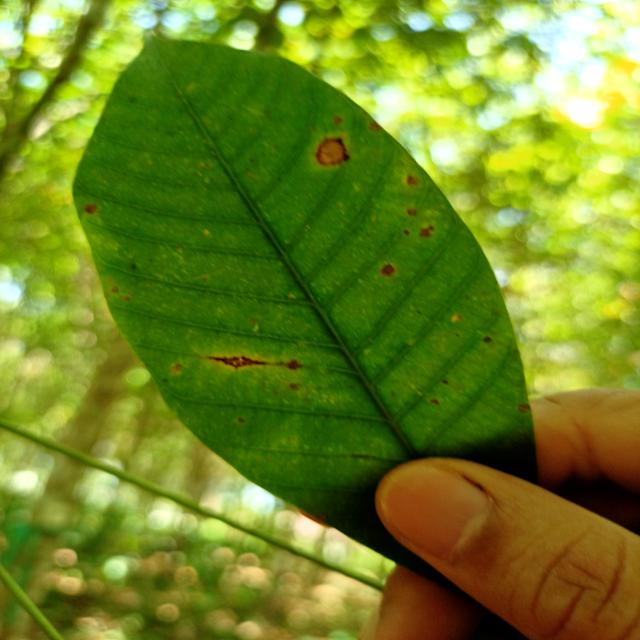Corynespora: (208, 356, 267, 370)
